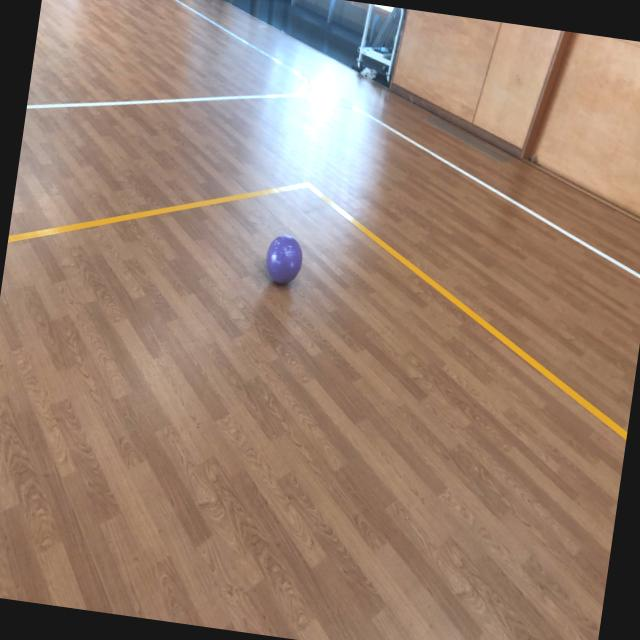purple_ball: (264, 232, 306, 286)
